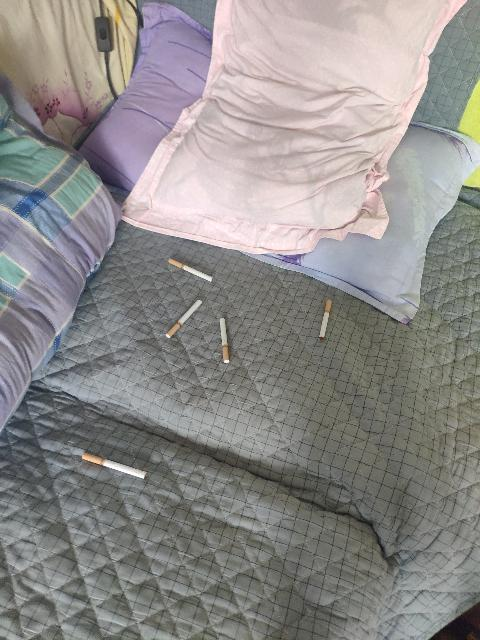Smoking: (82, 452, 148, 480), (166, 300, 202, 338), (168, 260, 214, 282), (318, 301, 332, 341), (220, 318, 230, 364)
